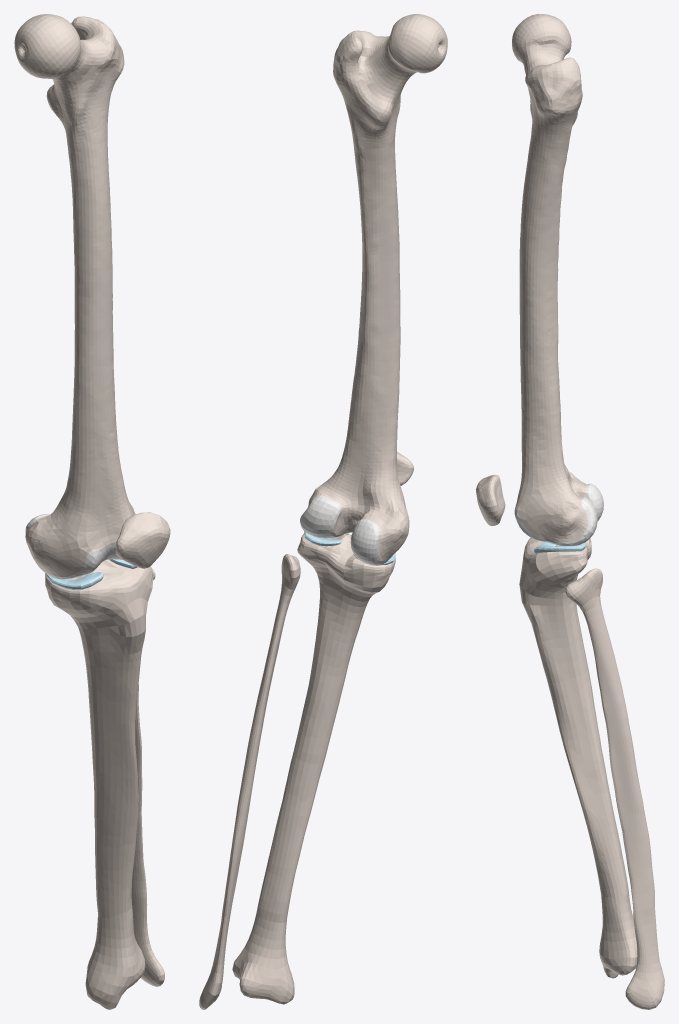
Rendered from VH_M_Knee_L_0.8.glb.
3 views of the same model, side by side, from view 1: azimuth 30°, elevation 25°; view 2: azimuth 150°, elevation 25°; view 3: azimuth 270°, elevation 25° (orthographic). The views are drawn at different scales.
Parts seen in each view (by area): view 1: VH_M_femur_L, VH_M_tibia_L, VH_M_fibula_L, VH_M_patella_L, VH_M_meniscus_L, VH_M_medial_condyle_of_left_femur_sup; view 2: VH_M_femur_L, VH_M_tibia_L, VH_M_fibula_L, VH_M_lateral_condyle_of_femur_inf_L, VH_M_medial_condyle_of_left_femur_inf; view 3: VH_M_femur_L, VH_M_tibia_L, VH_M_fibula_L, VH_M_patella_L, VH_M_articular_cartilage_of_knee_L.
Part boxes in pixels (x1,y1,x2,y2): VH_M_femur_L: [14, 14, 135, 576]; VH_M_tibia_L: [45, 559, 153, 1009]; VH_M_fibula_L: [131, 568, 164, 986]; VH_M_patella_L: [115, 512, 170, 568]; VH_M_meniscus_L: [47, 559, 137, 589]; VH_M_medial_condyle_of_left_femur_sup: [77, 547, 110, 576]; VH_M_femur_L: [308, 14, 447, 560]; VH_M_tibia_L: [232, 533, 395, 1004]; VH_M_fibula_L: [199, 554, 300, 1009]; VH_M_lateral_condyle_of_femur_inf_L: [300, 496, 340, 536]; VH_M_medial_condyle_of_left_femur_inf: [350, 520, 380, 564]; VH_M_femur_L: [512, 14, 588, 541]; VH_M_tibia_L: [519, 537, 637, 978]; VH_M_fibula_L: [565, 568, 664, 1009]; VH_M_patella_L: [476, 474, 505, 525]; VH_M_articular_cartilage_of_knee_L: [515, 483, 590, 545].
Bounding box in the file's own units: 0.1734 × 0.8875 × 0.1646.
